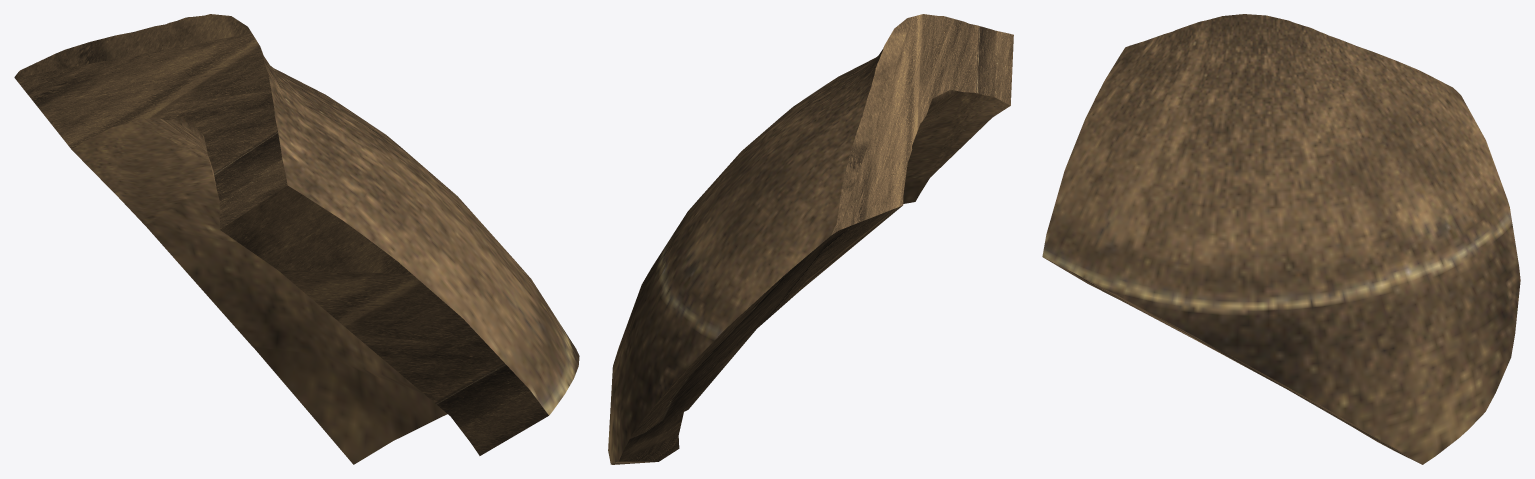
3 views of the same model, side by side, from view 1: azimuth 30°, elevation 25°; view 2: azimuth 150°, elevation 25°; view 3: azimuth 270°, elevation 25° (orthographic). The views are drawn at different scales.
Parts seen in each view (by area): view 1: Cylinder_cell.006; view 2: Cylinder_cell.006; view 3: Cylinder_cell.006.
Part boxes in pixels (x1,y1,x2,y2): Cylinder_cell.006: (14, 14, 579, 464); Cylinder_cell.006: (608, 14, 1013, 464); Cylinder_cell.006: (1042, 14, 1520, 464).
Bounding box in the file's own units: 0.7609 × 1.04 × 1.22.
1 material, 1 textured.
